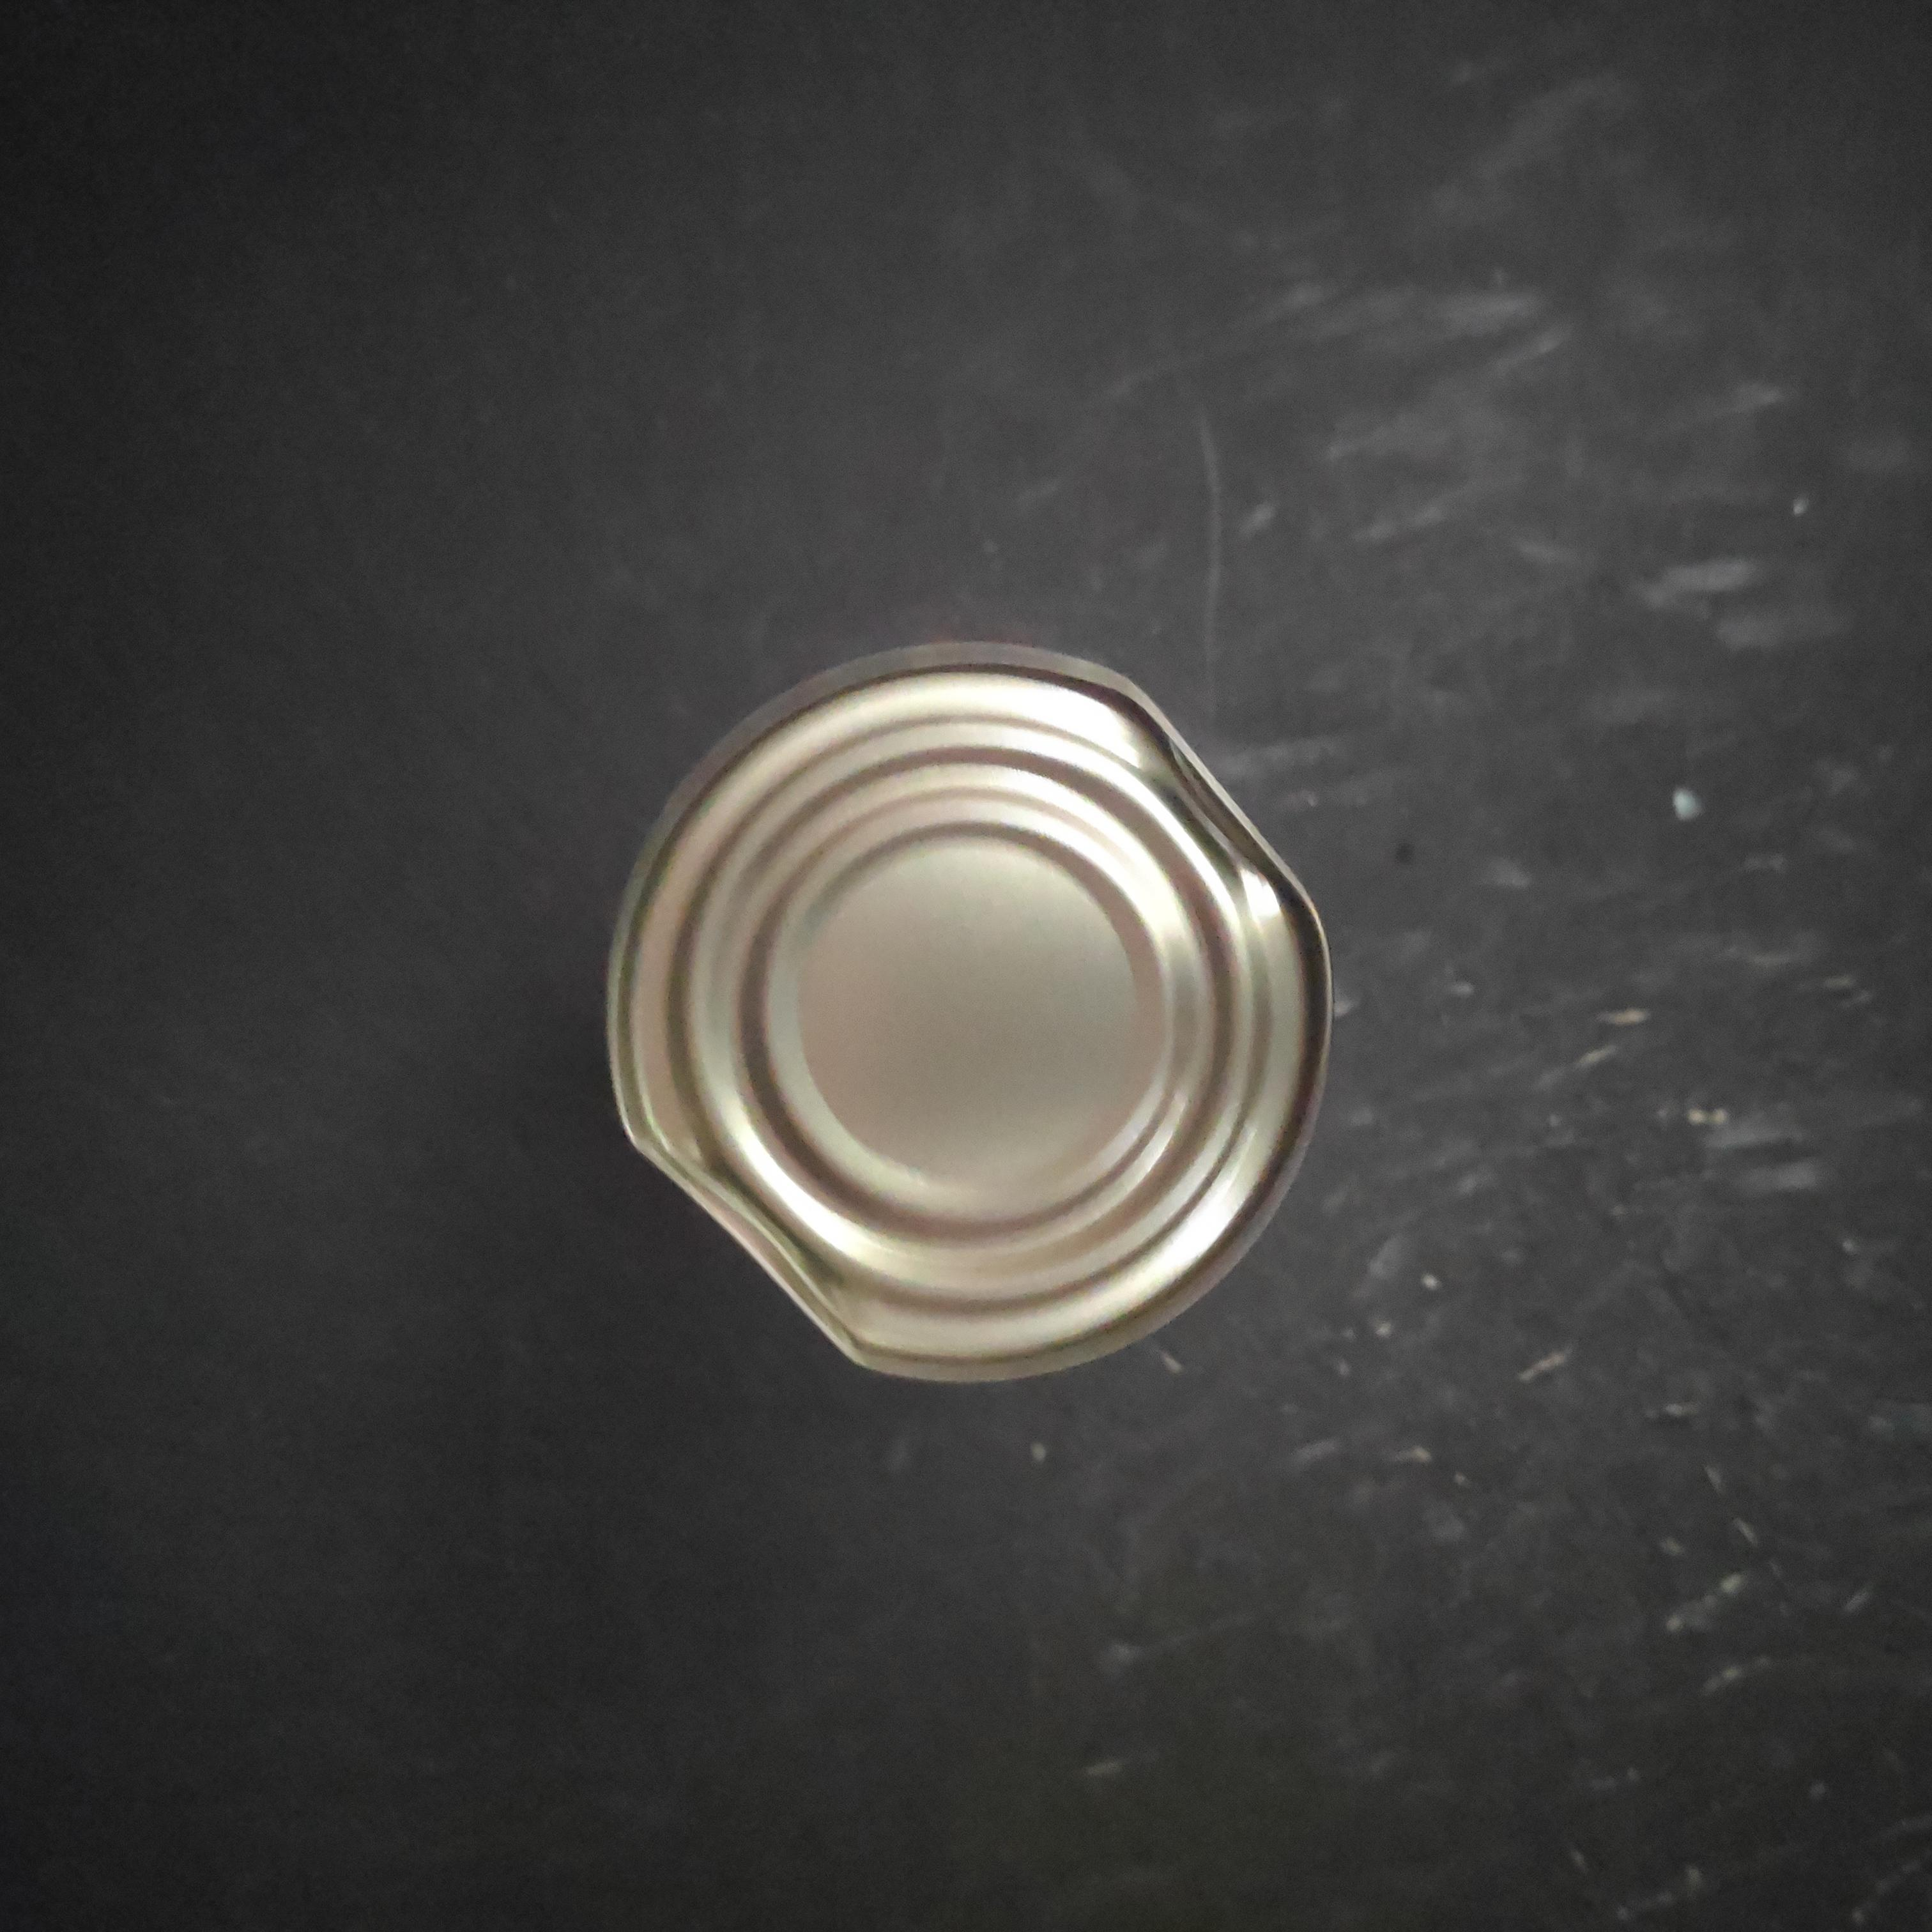Minor Defect: (593, 531, 1346, 1320)
